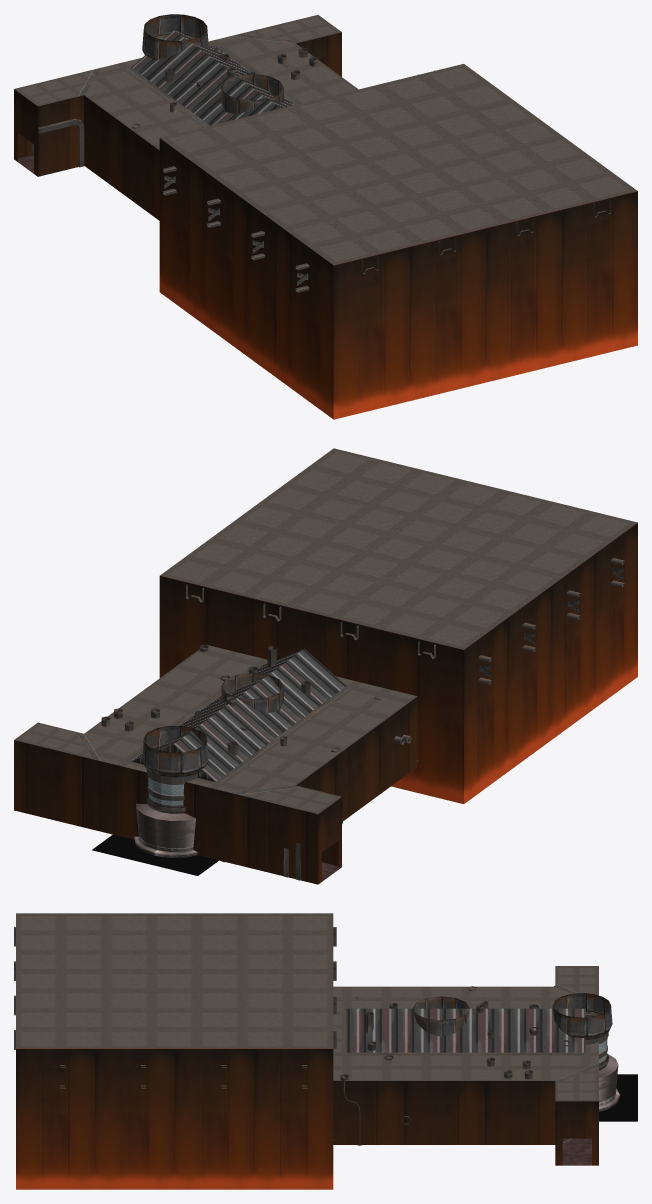
File: molten_furnace_room.fbx
3 views of the same model, one above another, from view 1: azimuth 30°, elevation 25°; view 2: azimuth 150°, elevation 25°; view 3: azimuth 270°, elevation 25° (orthographic). The views are drawn at different scales.
Parts seen in each view (by area): view 1: Walls, Furnace, Pipes, RoofSupports, LavaPipe; view 2: Walls, Furnace, Plane, Pipes, RoofSupports, LavaPipe; view 3: Walls, Furnace, LavaPipe, Pipes, Plane, RoofSupports.
Boxes of the visible parts, <box> form: Walls: <box>14,15,637,419</box>; Furnace: <box>142,14,222,59</box>; Pipes: <box>31,47,317,167</box>; RoofSupports: <box>163,70,610,292</box>; LavaPipe: <box>221,74,283,114</box>; Walls: <box>14,448,637,884</box>; Furnace: <box>134,726,208,857</box>; Plane: <box>92,834,218,875</box>; Pipes: <box>101,645,411,880</box>; RoofSupports: <box>186,558,624,684</box>; LavaPipe: <box>221,673,283,712</box>; Walls: <box>16,913,598,1189</box>; Furnace: <box>552,993,619,1111</box>; LavaPipe: <box>413,996,469,1036</box>; Pipes: <box>340,986,555,1145</box>; Plane: <box>599,1074,637,1121</box>; RoofSupports: <box>14,927,336,1088</box>.
Size of what is drawn, in the model's own units: 4983 by 2314 by 9302.
